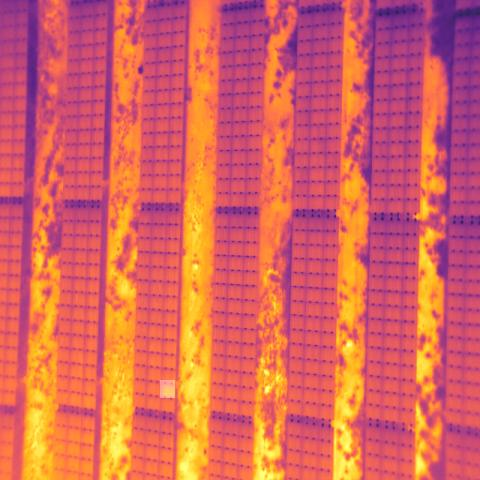fault: (160, 380, 175, 398)
